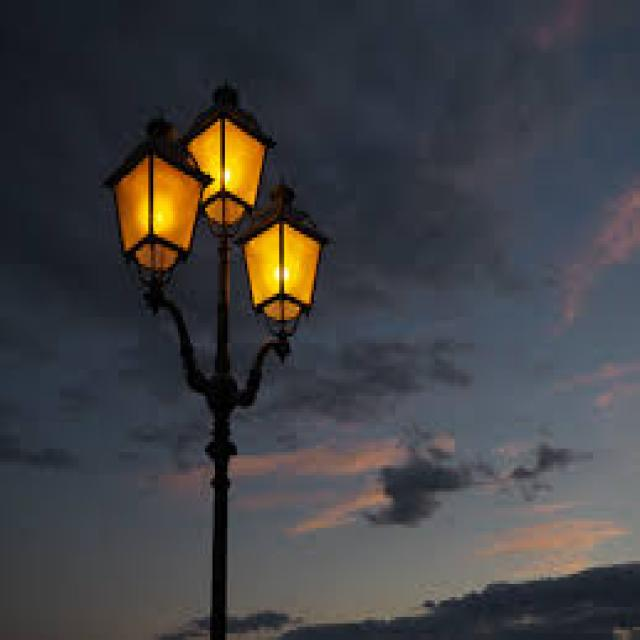Street Light: (106, 82, 329, 640)
